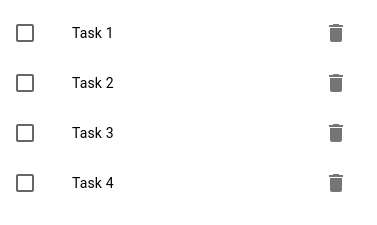
Test: should delete a list item when delete button is clicked
The image size is (377, 225).
Expected: the number of list items is 4, [0,8,360,58]; [0,58,360,108]; [0,108,360,158]; [0,158,360,208]
Expected: the text "Task 1" is shown, [72,25,114,41]
Click the button named "delete" in the row of "Task 1". click: (336, 33)
box: [316,13,356,53]
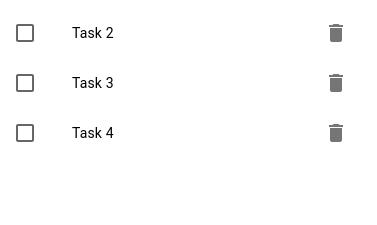
Expected: the number of list items is 3, [0,8,360,58]; [0,58,360,108]; [0,108,360,158]
Expected: the text "Task 1" is gone
